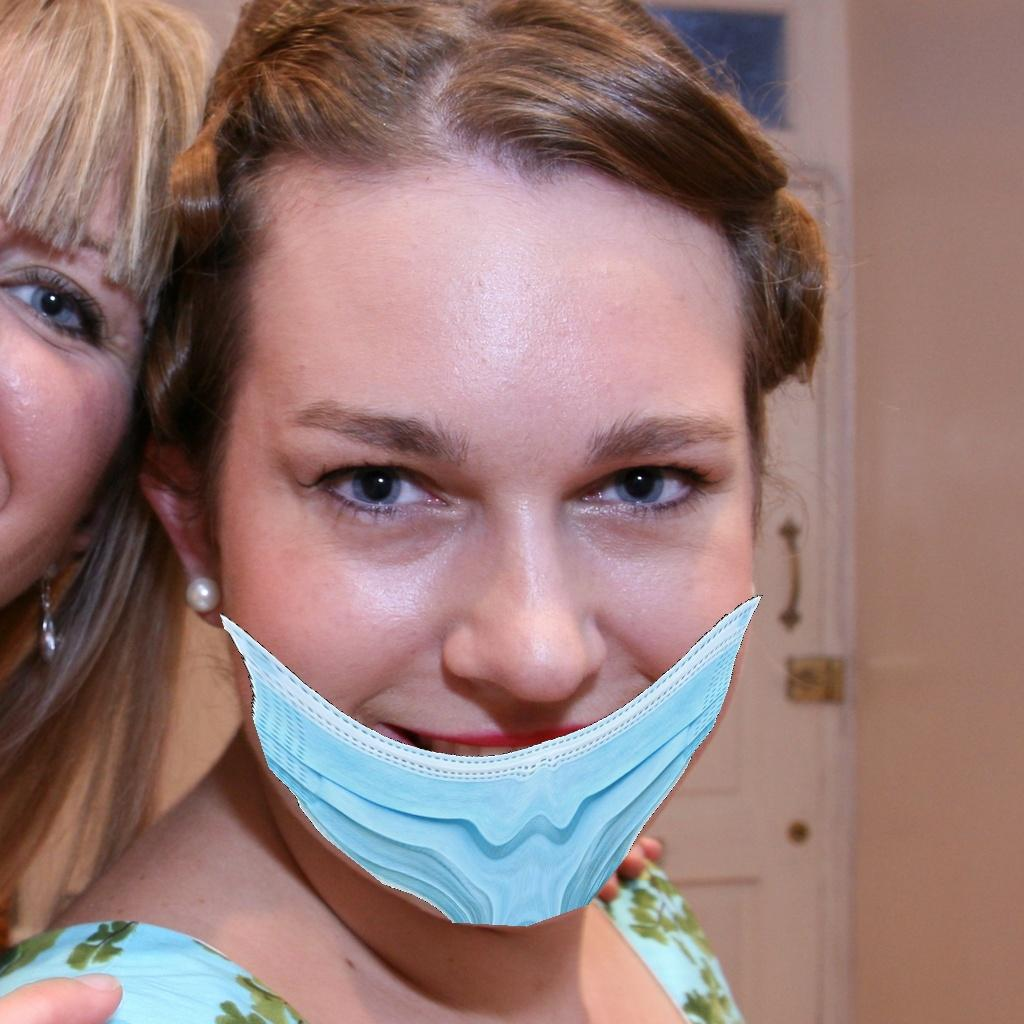Máscara Incorreta: (215, 263, 782, 935)
